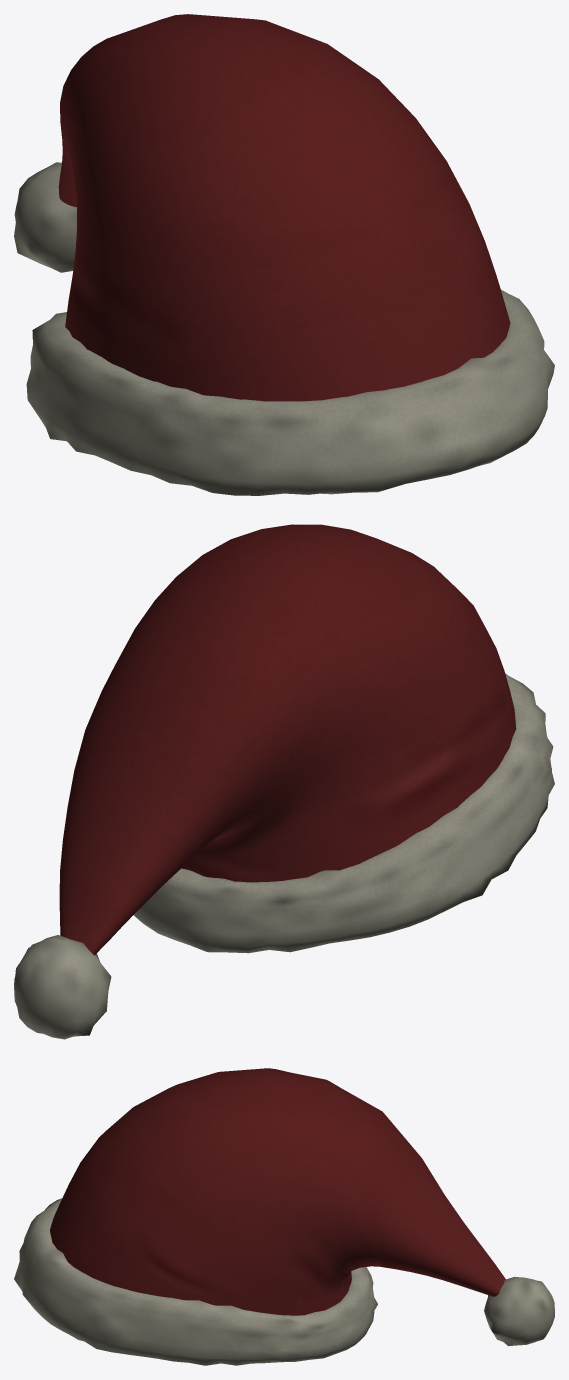
Rendered from new year's hat.fbx.
3 views of the same model, one above another, from view 1: azimuth 30°, elevation 25°; view 2: azimuth 150°, elevation 25°; view 3: azimuth 270°, elevation 25° (orthographic). The views are drawn at different scales.
Visible parts, largest first — view 1: LOL; view 2: LOL; view 3: LOL.
Boxes of the visible parts, left/top/right/bottom form: LOL: left=14, top=14, right=554, bottom=495; LOL: left=14, top=524, right=554, bottom=1039; LOL: left=14, top=1068, right=554, bottom=1365.
Size of the model in its own units: 17.52 by 15.84 by 31.09.
Materials: 1 (1 with a texture image).
